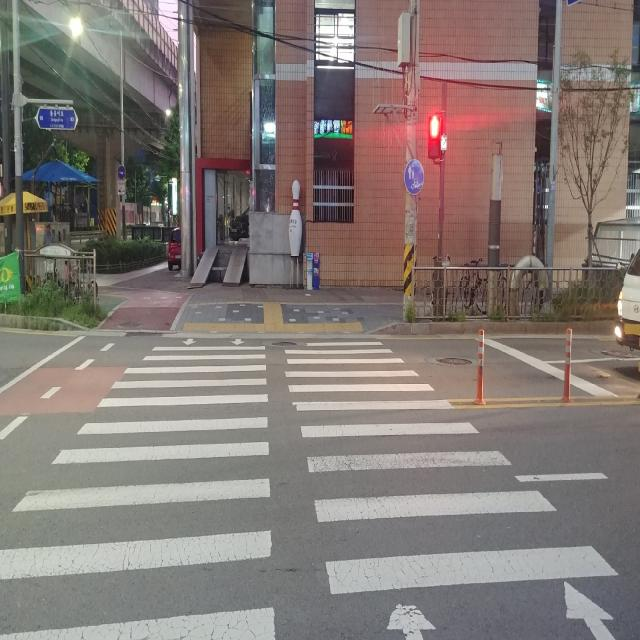빨간불: (427, 110, 443, 163)
횡단보도: (0, 336, 621, 639)
